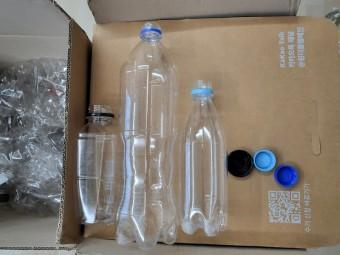bottle: (115, 23, 183, 250), (91, 105, 106, 229), (198, 81, 209, 235)
